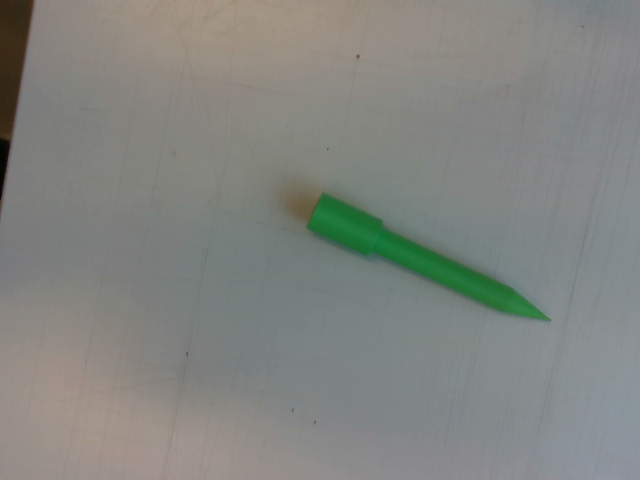Probe: (302, 188, 562, 329)
